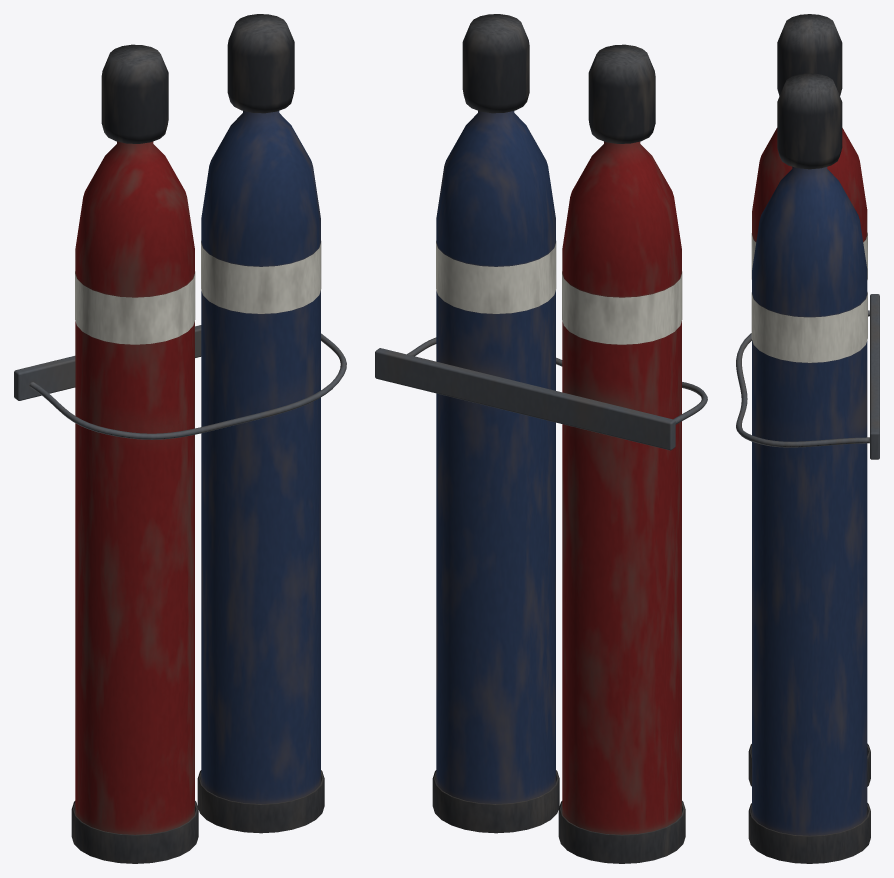
File: lab_butle.glb
The picture shows the model from 3 angles, left to right: view 1: azimuth 30°, elevation 25°; view 2: azimuth 150°, elevation 25°; view 3: azimuth 270°, elevation 25°; orthographic projection. The views are drawn at different scales.
Parts seen in each view (by area): view 1: Butle; view 2: Butle; view 3: Butle.
Boxes of the visible parts, x1=… form: Butle: x1=14, y1=14, x2=346, y2=863; Butle: x1=375, y1=14, x2=707, y2=863; Butle: x1=736, y1=14, x2=879, y2=863.
Bounding box in the file's own units: 0.66 × 1.67 × 0.2871.
1 material, 1 textured.
